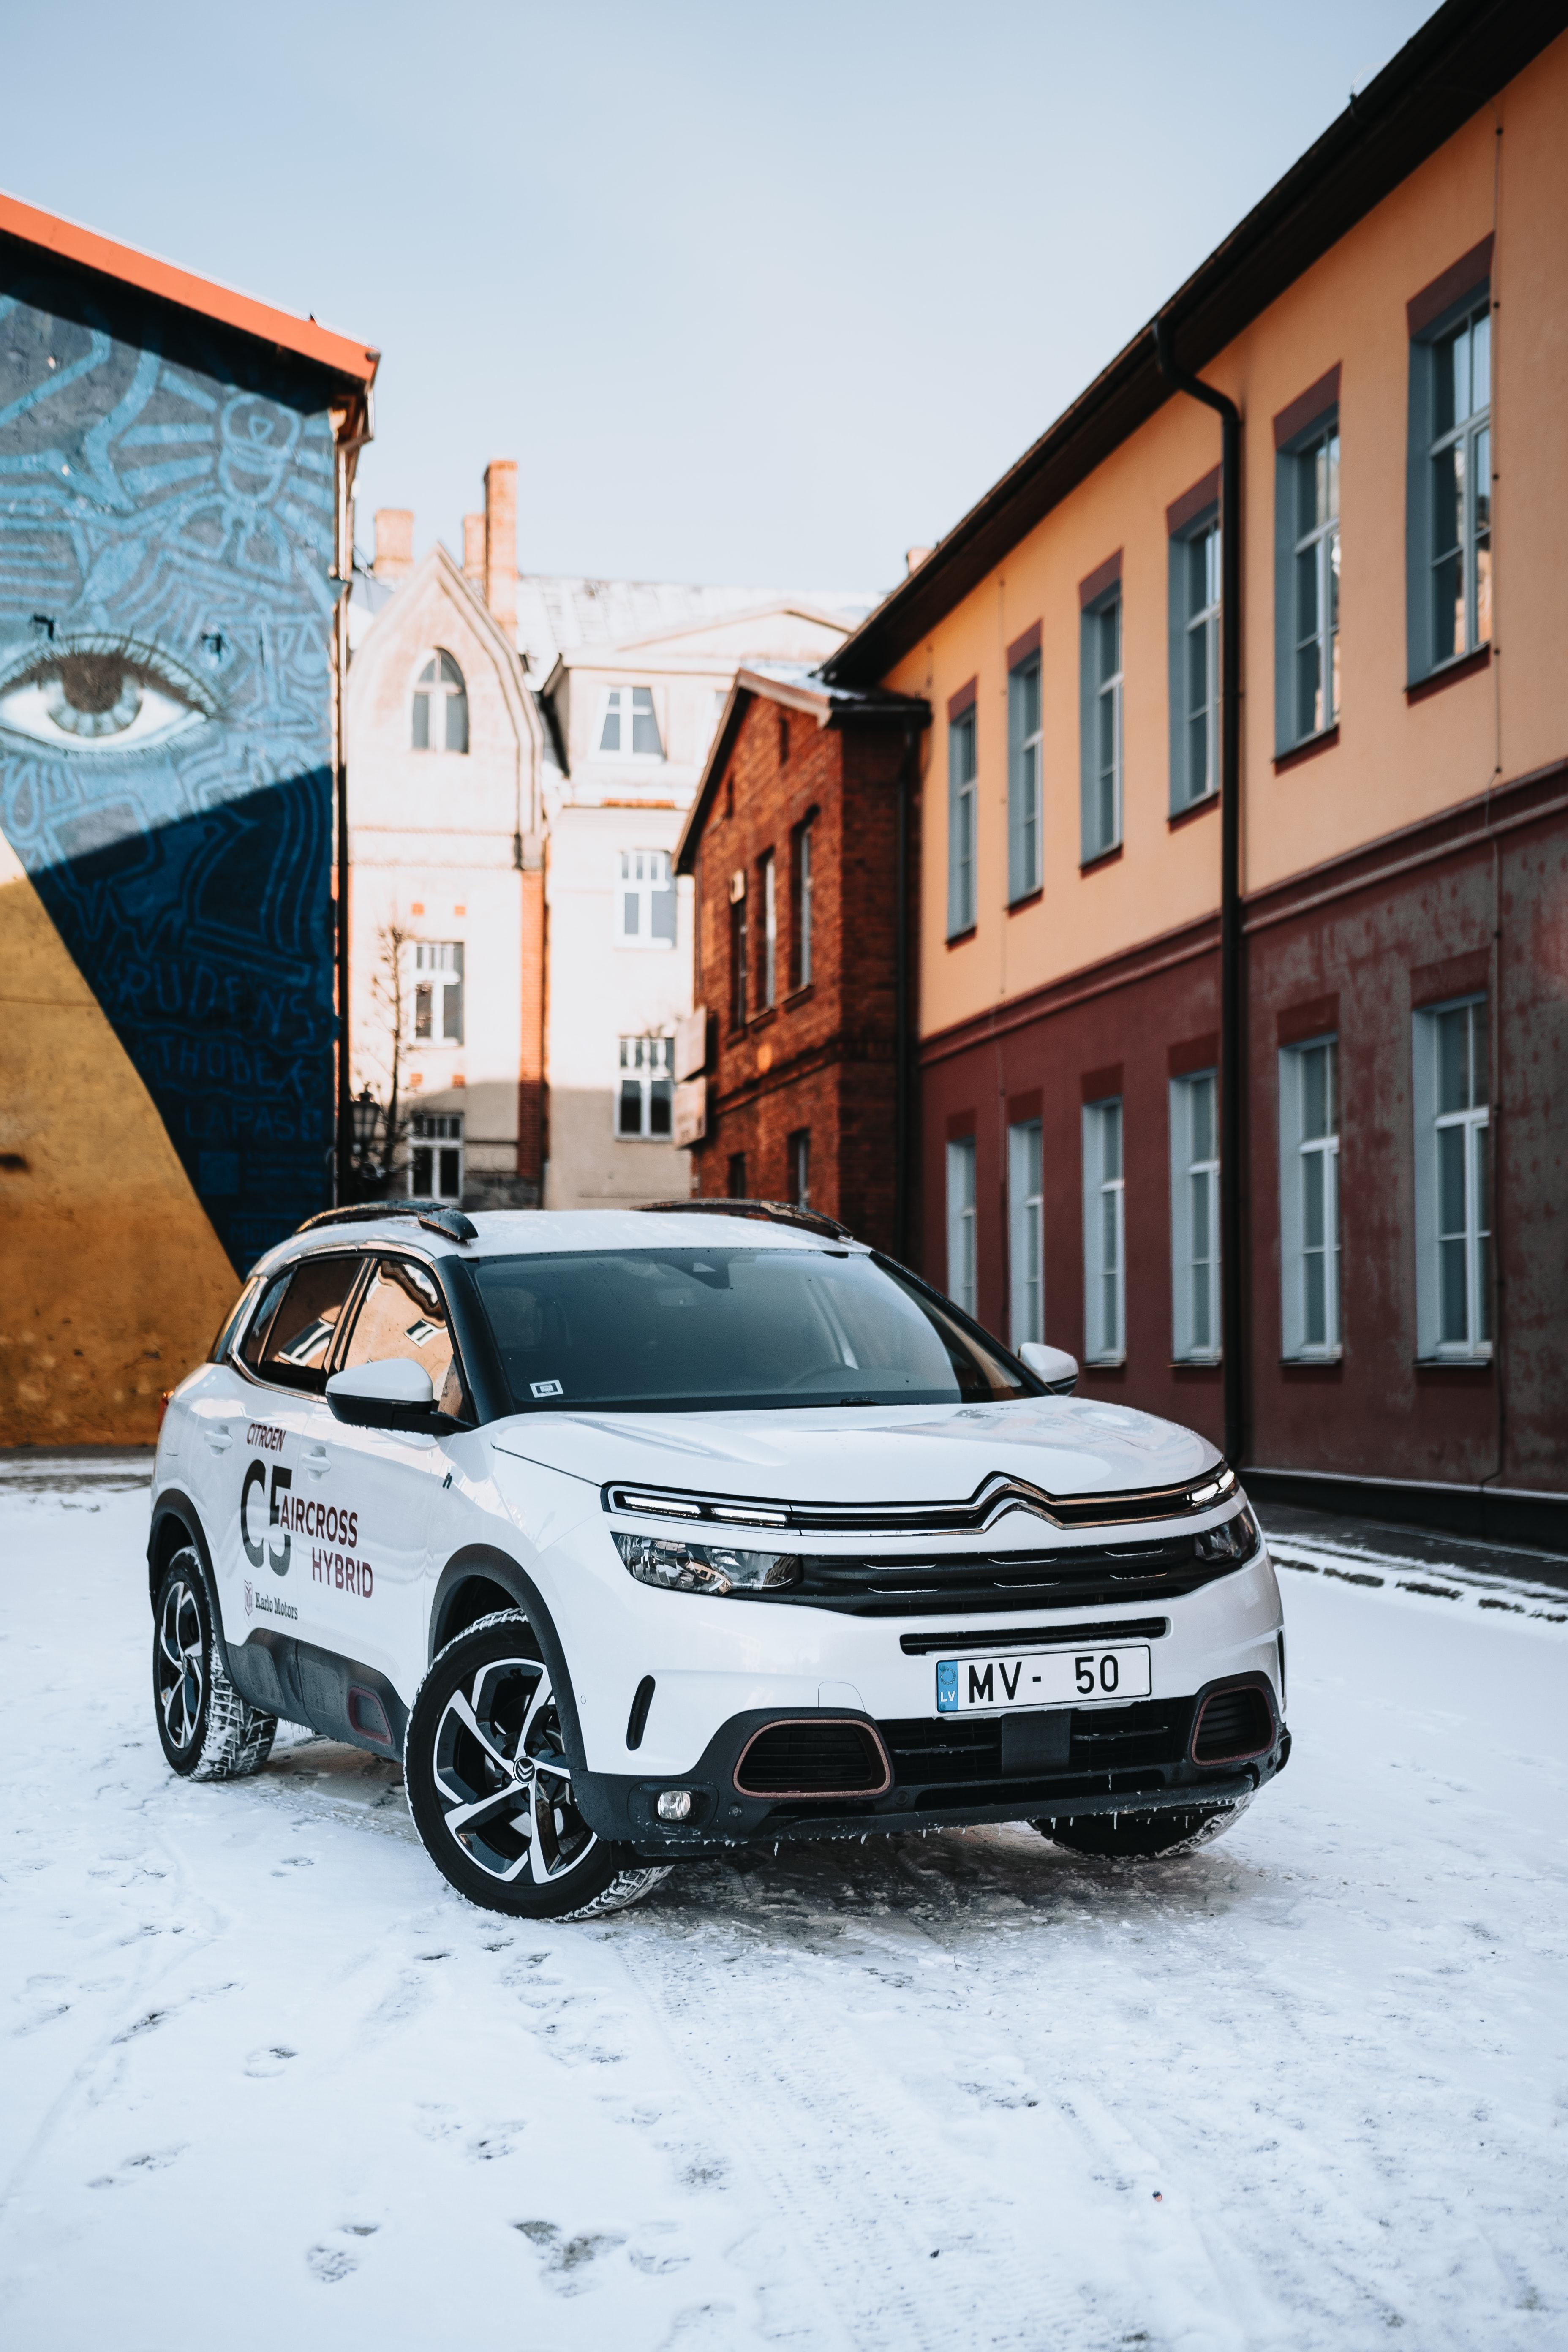Citroen: (955, 1461, 1061, 1552)
